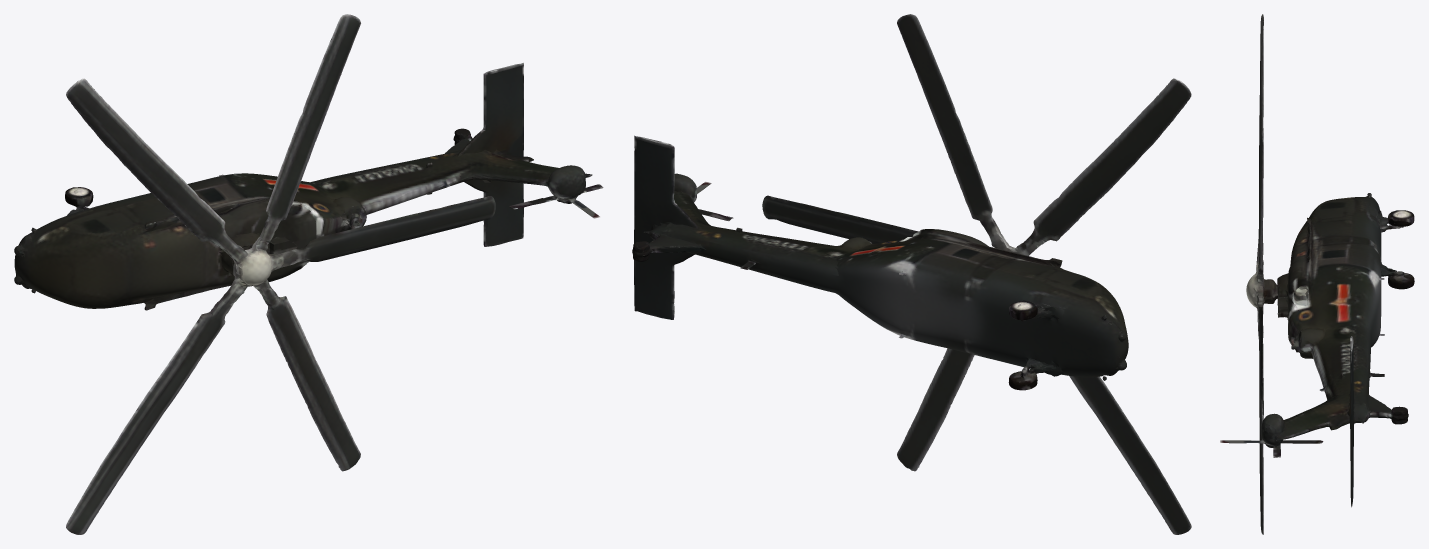
File: Z-20_Helicopter_AI_Rodin.glb
3 views of the same model, side by side, from view 1: azimuth 30°, elevation 25°; view 2: azimuth 150°, elevation 25°; view 3: azimuth 270°, elevation 25° (orthographic). The views are drawn at different scales.
Visible parts, largest first — view 1: Z-20_Helicopter; view 2: Z-20_Helicopter; view 3: Z-20_Helicopter.
Boxes of the visible parts, x1,y1,x2,y2 form: Z-20_Helicopter: (14,14,603,534); Z-20_Helicopter: (632,14,1191,534); Z-20_Helicopter: (1220,14,1414,534).
Bounding box in the file's own units: 1.87 × 1.5 × 0.6529.
Materials: 1 (1 with a texture image).
